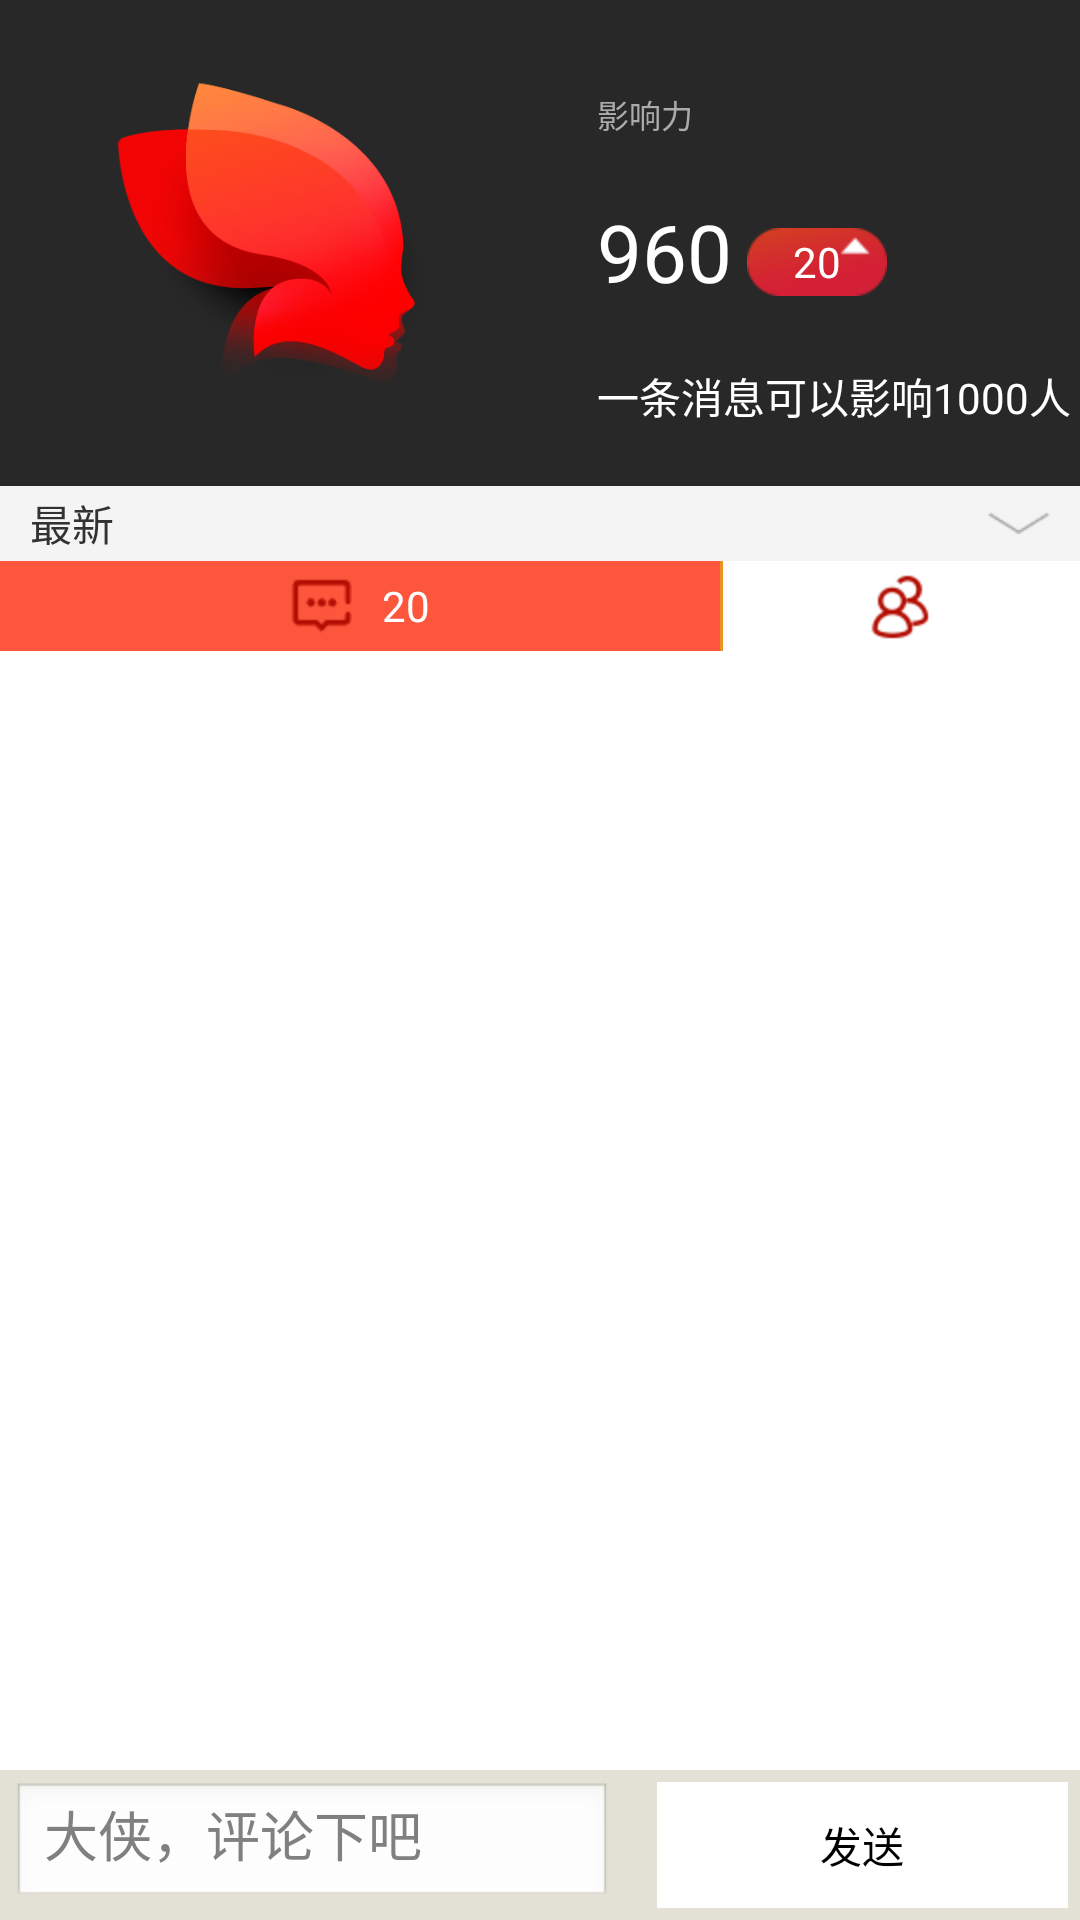

Where to tap for icons on this 1080*1920 app screen, as (x=x, y=y):
comment count: (x=321, y=605)
people count: (x=900, y=607)
